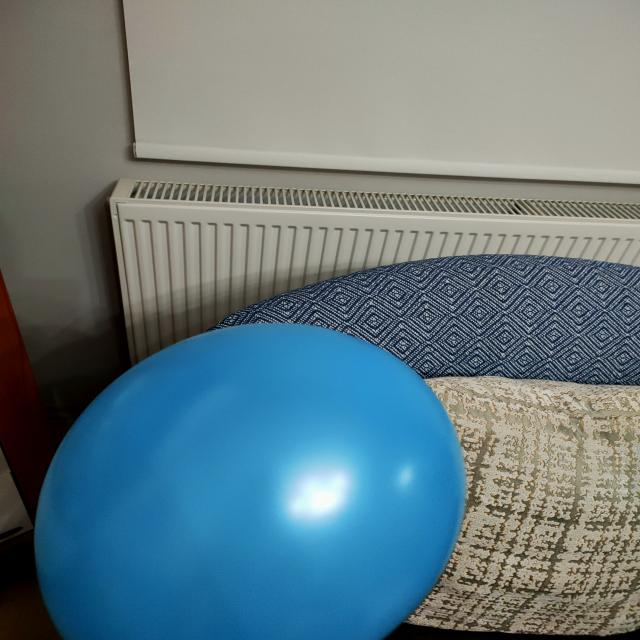blue: (40, 326, 467, 640)
